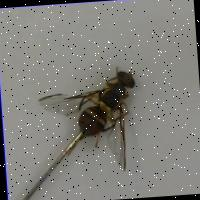Oriental-fruit-fly: (27, 58, 154, 171)
